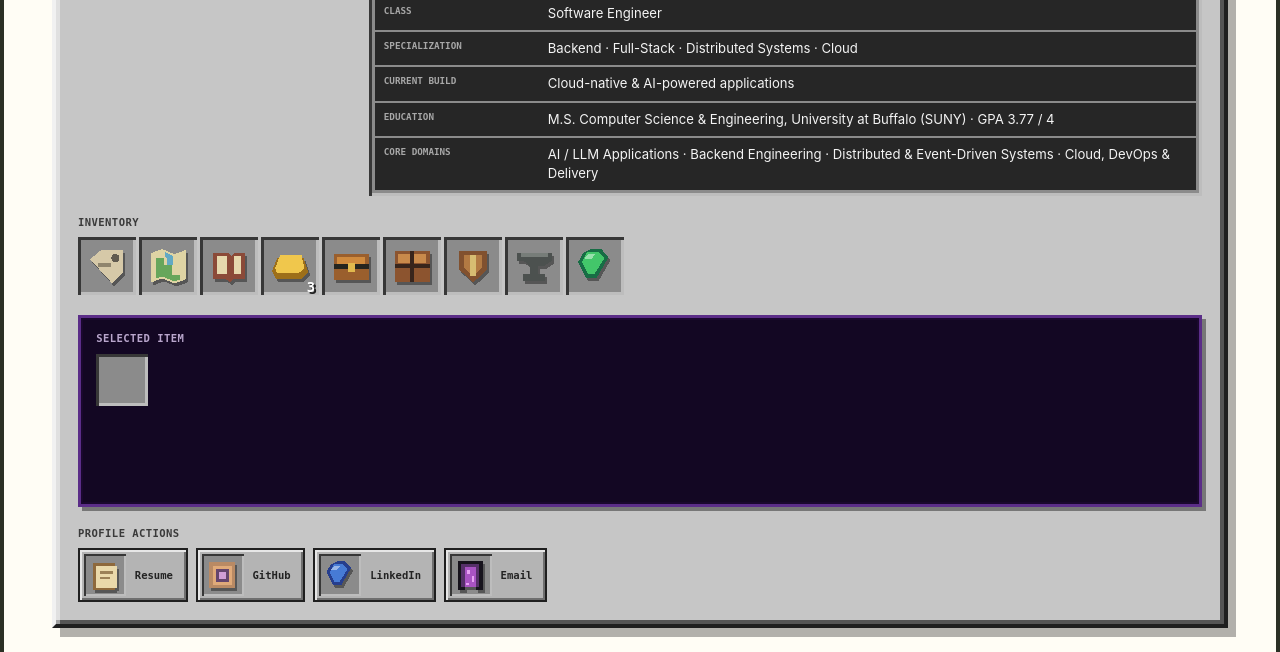
Test case: About player inventory › selects inventory items on click and updates the detail panel
This screenshot has width=1280, height=652.
(page scrolled)
Click the button named "Book, Education". click: (229, 267)
box: [200,238,258,296]
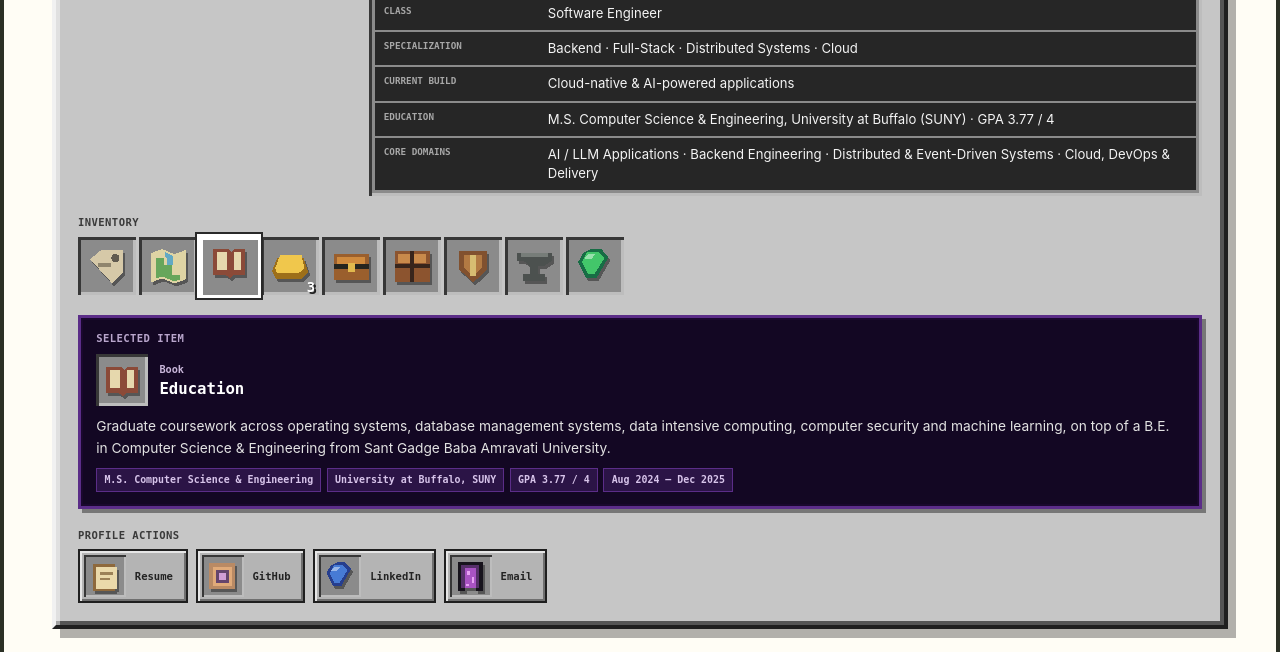
Expected: the heading "Education" is shown, [159,379,244,399]
Expected: the list item "GPA 3.77 / 4" is shown, [510,468,598,492]
